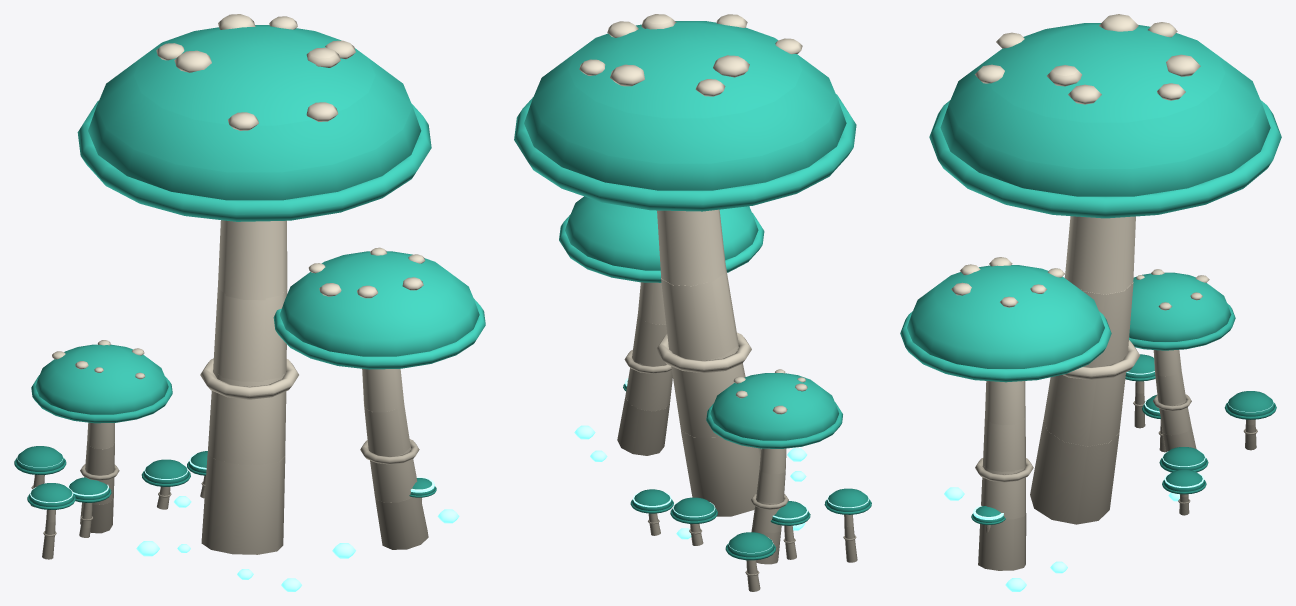
Rendered from mushrooms_teal.glb.
The picture shows the model from 3 angles, left to right: view 1: azimuth 30°, elevation 25°; view 2: azimuth 150°, elevation 25°; view 3: azimuth 270°, elevation 25°; orthographic projection. The views are drawn at different scales.
Visible parts, largest first — view 1: t0_mushroom_teal, t0_mushroom_stem, t0_glow_teal; view 2: t0_mushroom_teal, t0_mushroom_stem, t0_glow_teal; view 3: t0_mushroom_teal, t0_mushroom_stem, t0_glow_teal.
Part boxes in pixels (x1,y1,x2,y2): t0_mushroom_teal: (14,25,485,509); t0_mushroom_stem: (31,14,428,559); t0_glow_teal: (17,451,459,591); t0_mushroom_teal: (514,21,871,560); t0_mushroom_stem: (579,14,857,591); t0_glow_teal: (574,378,869,553); t0_mushroom_teal: (900,23,1281,524); t0_mushroom_stem: (951,14,1257,570); t0_glow_teal: (944,371,1273,591).
Bounding box in the file's own units: 1.89 × 2.34 × 1.69.
